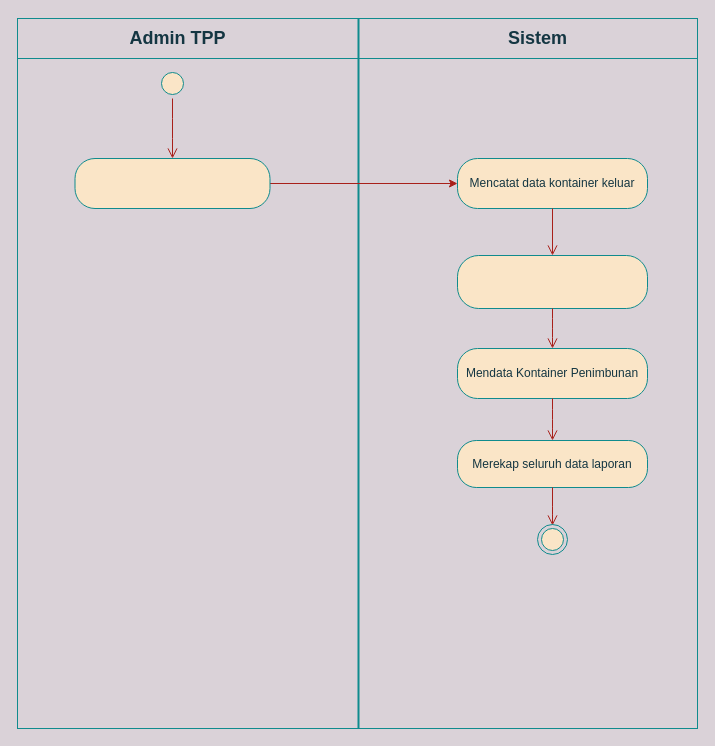
Some shapes in this 715 by 746 pixel diagram are drawn without their labels. The box of each missing label's shape, as (x1, y1, x2, y2) in pixels:
Membuat SP2 / Tila Cargo keluar: (456, 254, 648, 308)
menerima dokumen SPPB dari EMKL: (74, 158, 270, 208)
